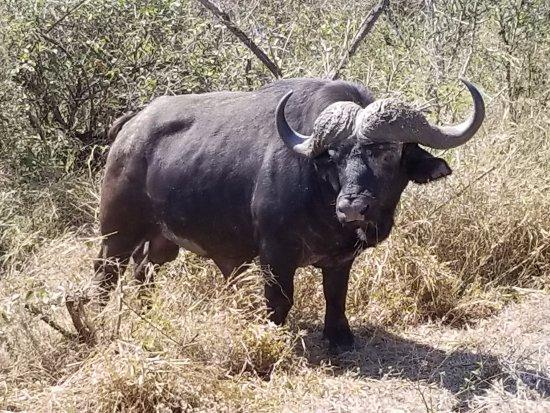Buffalo: (83, 59, 523, 309)
